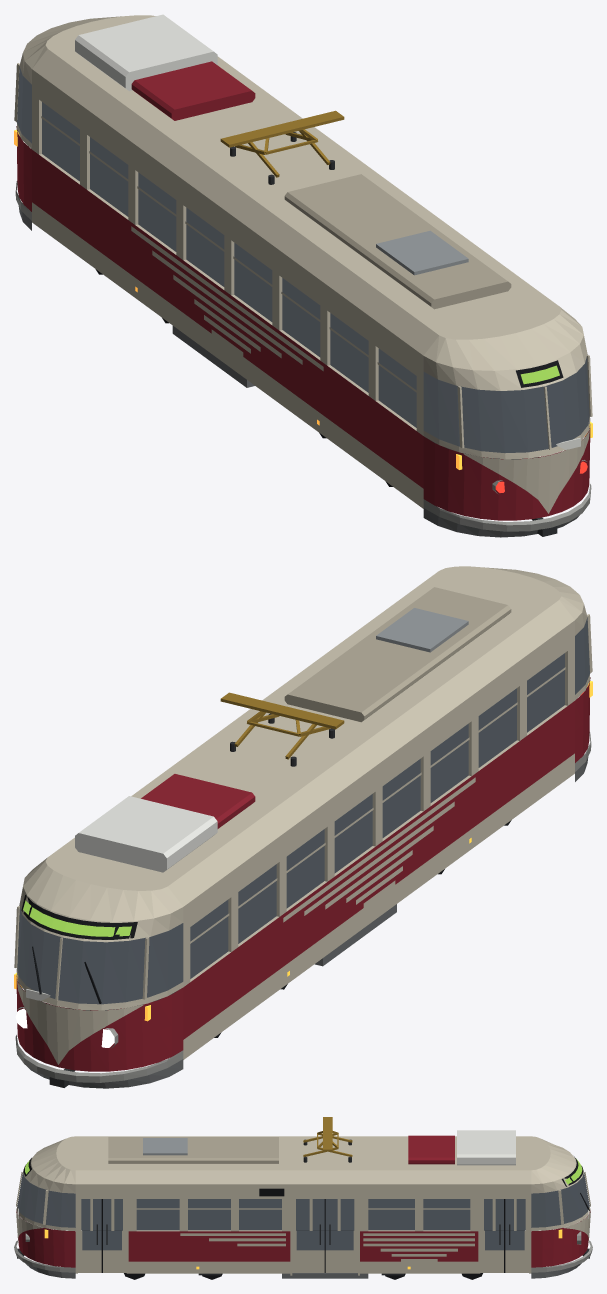
File: t3rplf.glb
3 views of the same model, one above another, from view 1: azimuth 30°, elevation 25°; view 2: azimuth 150°, elevation 25°; view 3: azimuth 270°, elevation 25° (orthographic). The views are drawn at different scales.
Visible parts, largest first — view 1: t3rplf; view 2: t3rplf; view 3: t3rplf.
Part boxes in pixels (x1,y1,x2,y2): t3rplf: (14, 14, 592, 537); t3rplf: (14, 566, 592, 1088); t3rplf: (14, 1117, 592, 1279).
Bounding box in the file's own units: 2.52 × 3.52 × 14.24.
